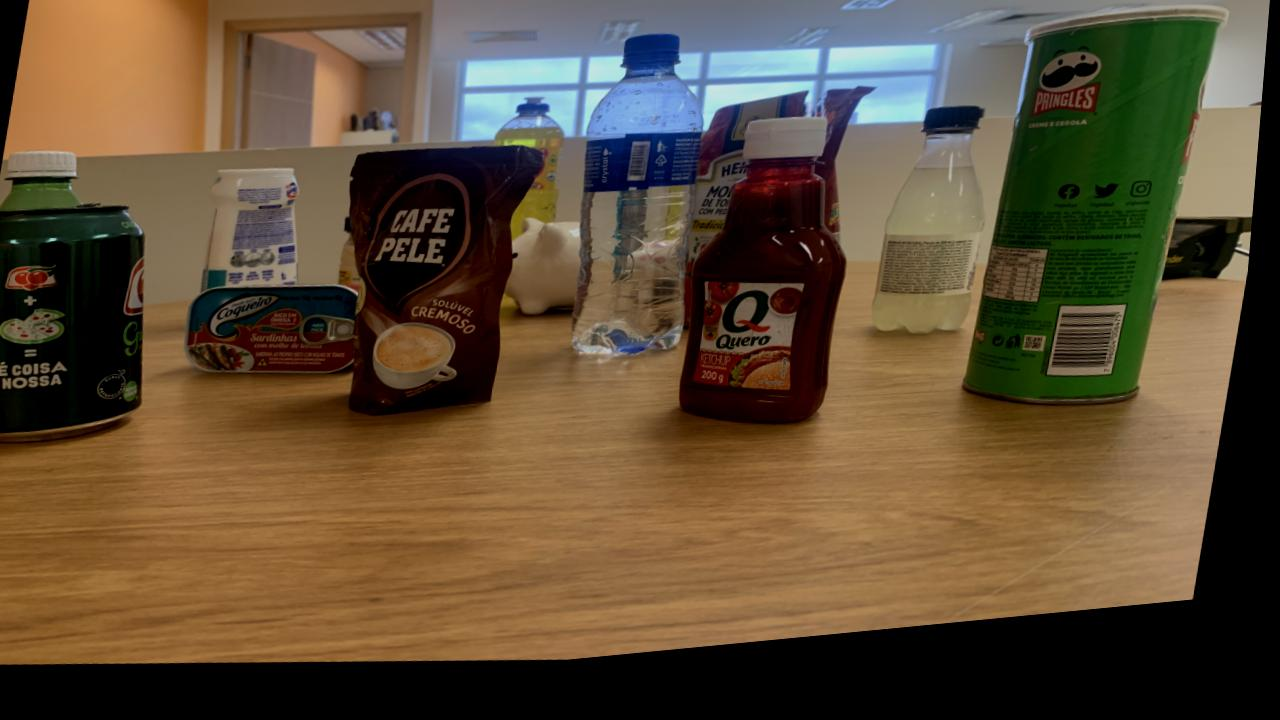Cleaner-Cleanup_Items: (205, 174, 303, 295)
Coffee-Pantry_Items: (352, 157, 547, 424)
Detergent-Cleanup_Items: (497, 107, 567, 248)
Guarana-Drinks: (2, 152, 85, 212)
Guarana_Can-Drinks: (0, 207, 149, 442)
Ketchup-Pantry_Items: (686, 134, 852, 440)
Pig_Safe-Miscellaneous: (509, 230, 586, 326)
Pringles-Snacks: (970, 33, 1226, 426)
Soda-Drinks: (878, 127, 991, 353)
Tomato_Sauce-Pantry_Items: (689, 108, 809, 333), (819, 103, 876, 258)
Tuna_Can-Pantry_Items: (190, 292, 363, 380)
Water_Bottle-Drinks: (577, 48, 707, 368)
